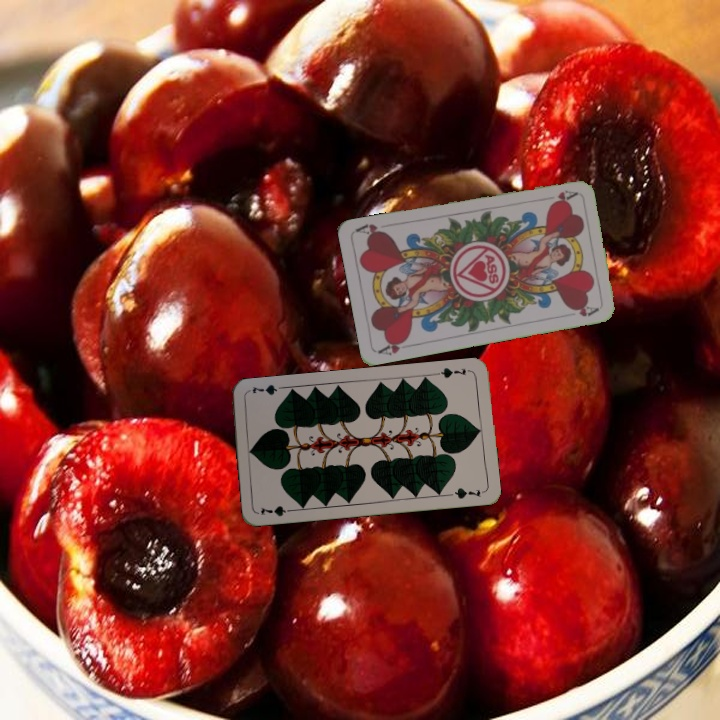G7: (257, 502, 297, 519), (433, 364, 474, 380)
HA: (374, 334, 411, 358), (550, 186, 578, 204)
